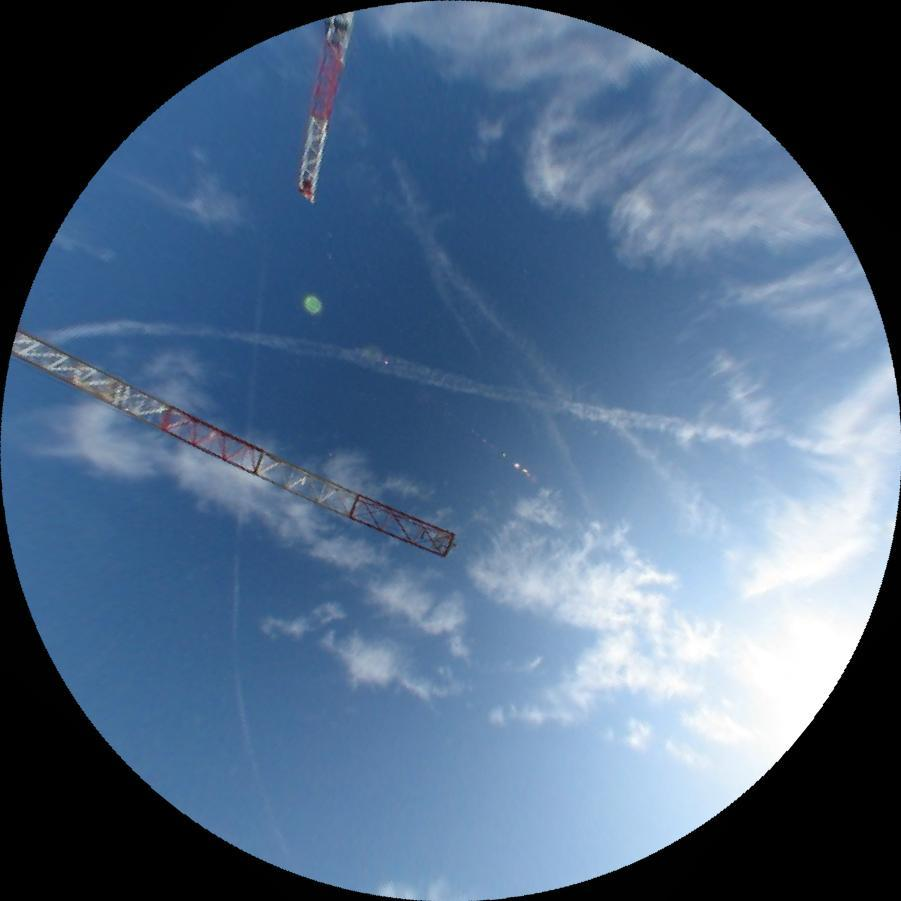contrail veryold: (35, 300, 697, 438), (420, 240, 577, 404)
contrail young: (211, 186, 291, 853)
unknow: (384, 161, 488, 370), (511, 363, 604, 517), (614, 421, 717, 518)
